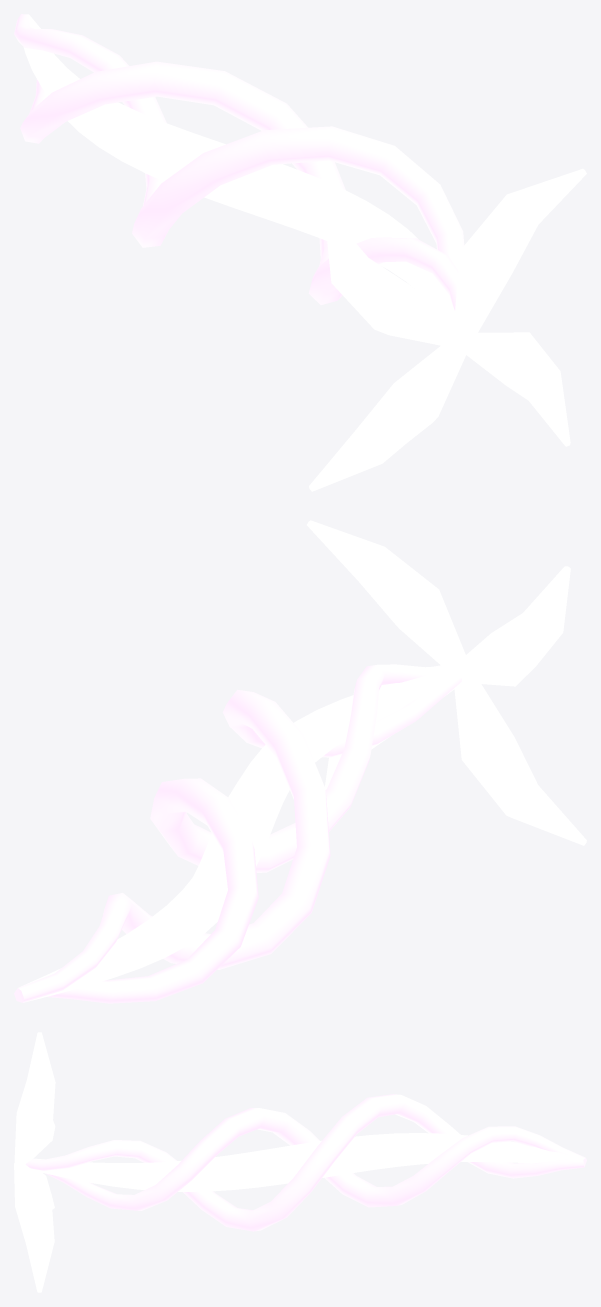
Rendered from bolt.glb.
3 renders of one model, top to bottom at view 1: azimuth 30°, elevation 25°; view 2: azimuth 150°, elevation 25°; view 3: azimuth 270°, elevation 25°, orthographic. The views are drawn at different scales.
Parts seen in each view (by area): view 1: impact-bloom, living-strand-2, living-strand-0, living-strand-1; view 2: impact-bloom, living-strand-1, living-strand-2, living-strand-0; view 3: living-strand-0, living-strand-1, living-strand-2, impact-bloom.
Boxes of the visible parts, box(x1,y1,x2,y2) form: impact-bloom: box(309, 168, 586, 491); living-strand-2: box(14, 14, 464, 270); living-strand-0: box(23, 15, 454, 320); living-strand-1: box(20, 15, 458, 310); impact-bloom: box(307, 520, 586, 845); living-strand-1: box(14, 664, 450, 1003); living-strand-2: box(18, 673, 461, 1002); living-strand-0: box(21, 669, 457, 1001); living-strand-0: box(33, 1133, 582, 1191); living-strand-1: box(25, 1094, 584, 1231); living-strand-2: box(45, 1108, 586, 1210); impact-bloom: box(14, 1032, 55, 1292).
Bounding box in the file's own units: 0.3642 × 0.3642 × 1.02.
